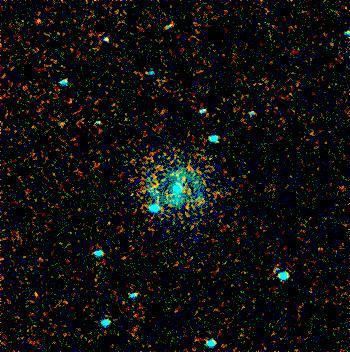star: (23, 7, 53, 37)
